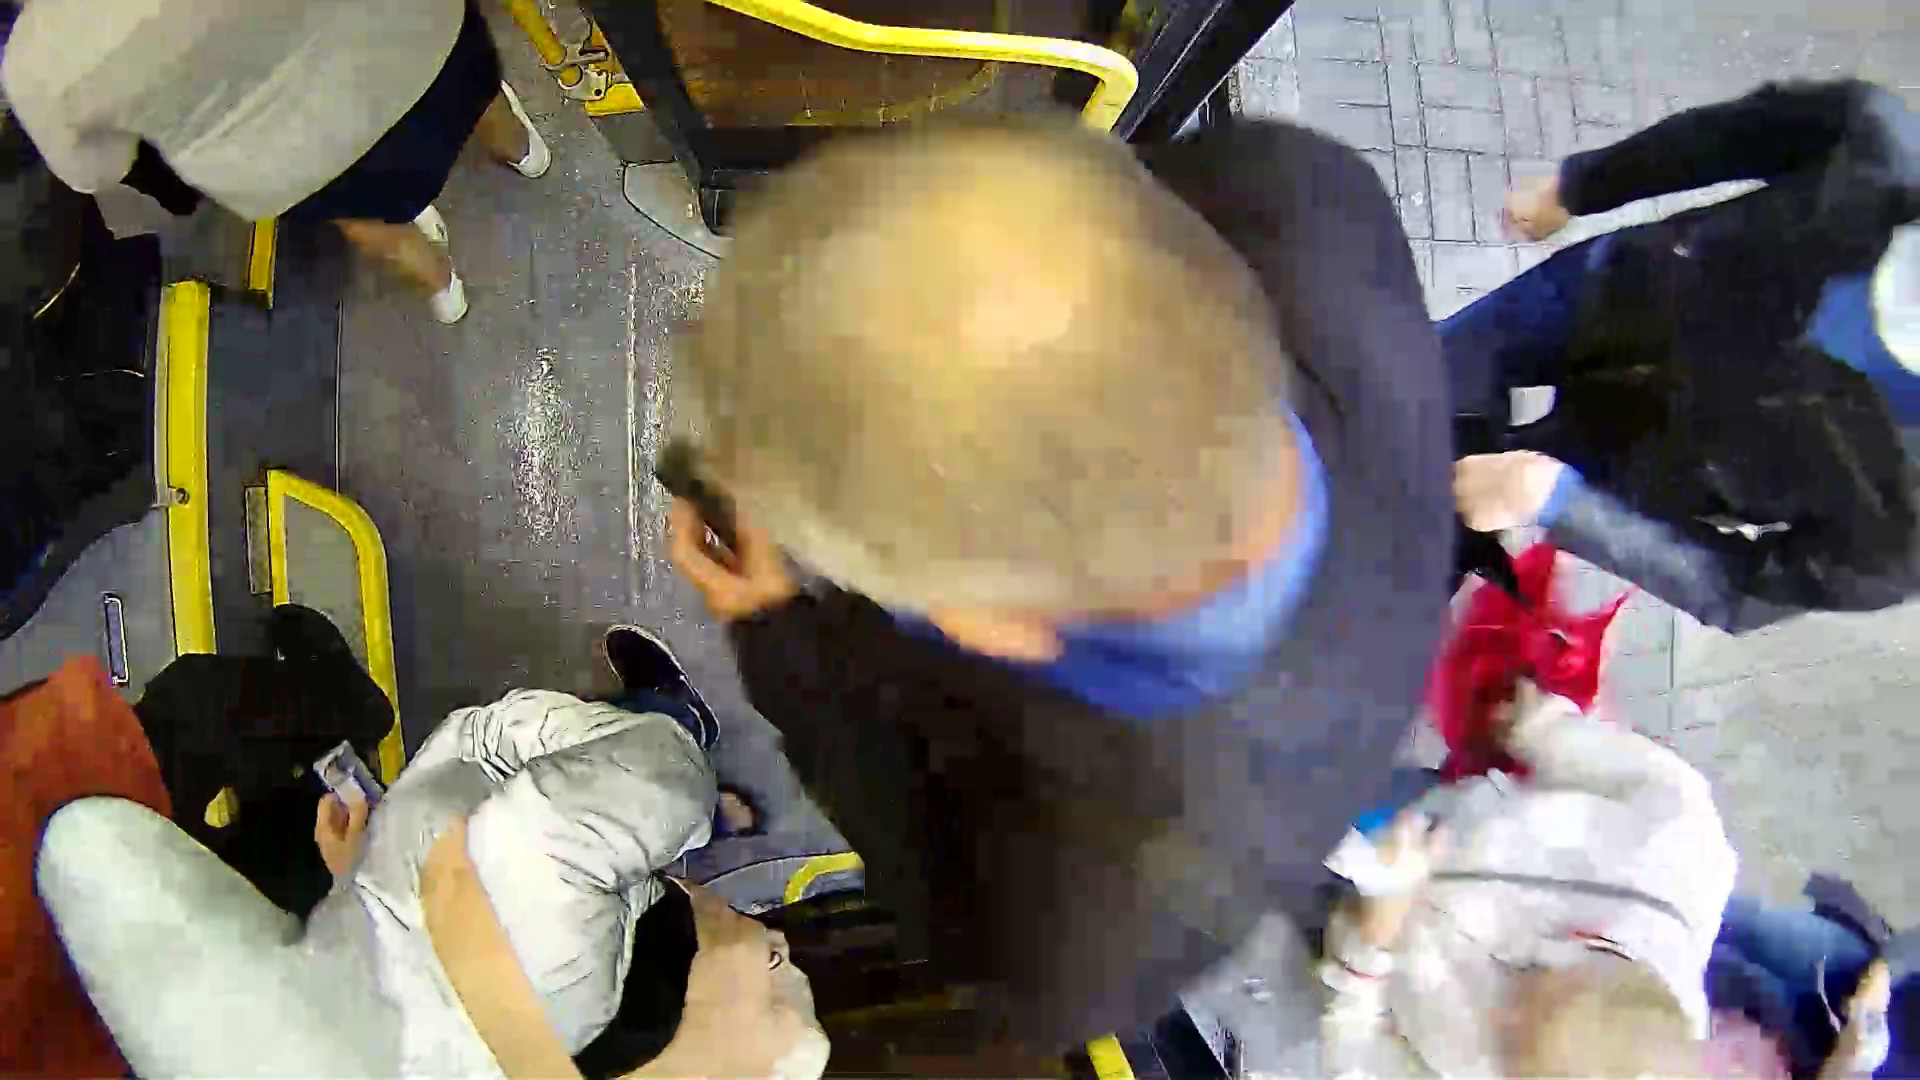person: (650, 99, 1497, 878)
